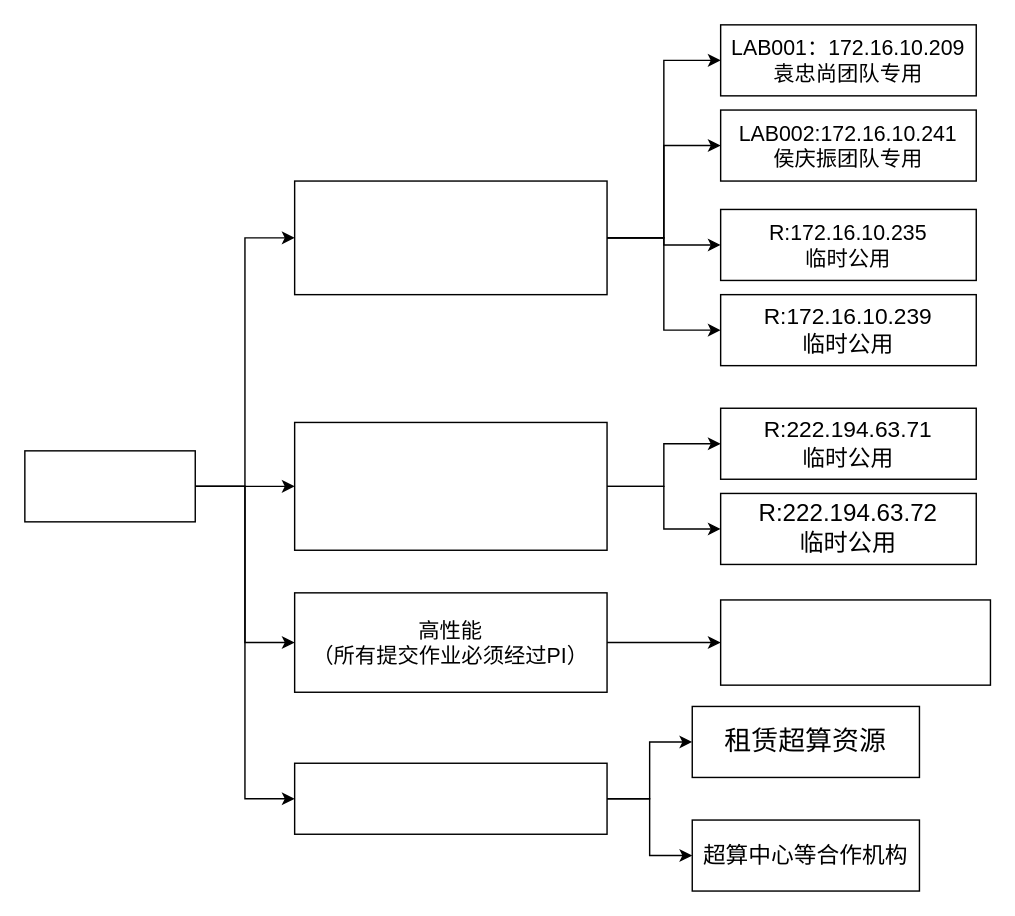
Some shapes in this 1015 by 916 pixel diagram are drawn without their labels. Each missing label, with the centre of its shape:
"2台CPU 4台GPU机器" belongs at point (854, 642).
"其他" belongs at point (450, 798).
"物理机 (性能好，扩展性低)" belongs at point (450, 485).
"研究院计算资源" belongs at point (109, 485).
"虚拟化服务器 （可根据需求灵活调配资源）" belongs at point (450, 237).
